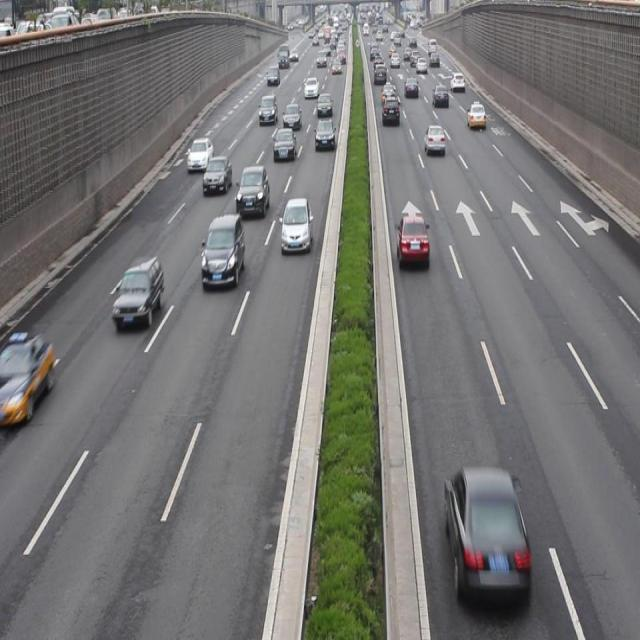car: (444, 460, 529, 602), (0, 330, 54, 423), (112, 254, 164, 329), (201, 212, 245, 289), (236, 163, 269, 216), (280, 196, 312, 250), (396, 212, 429, 264), (203, 154, 232, 194), (187, 135, 213, 172), (273, 126, 297, 164), (423, 121, 445, 156), (314, 117, 334, 152), (282, 101, 302, 130), (259, 93, 277, 124), (382, 96, 399, 124), (466, 102, 484, 128)
